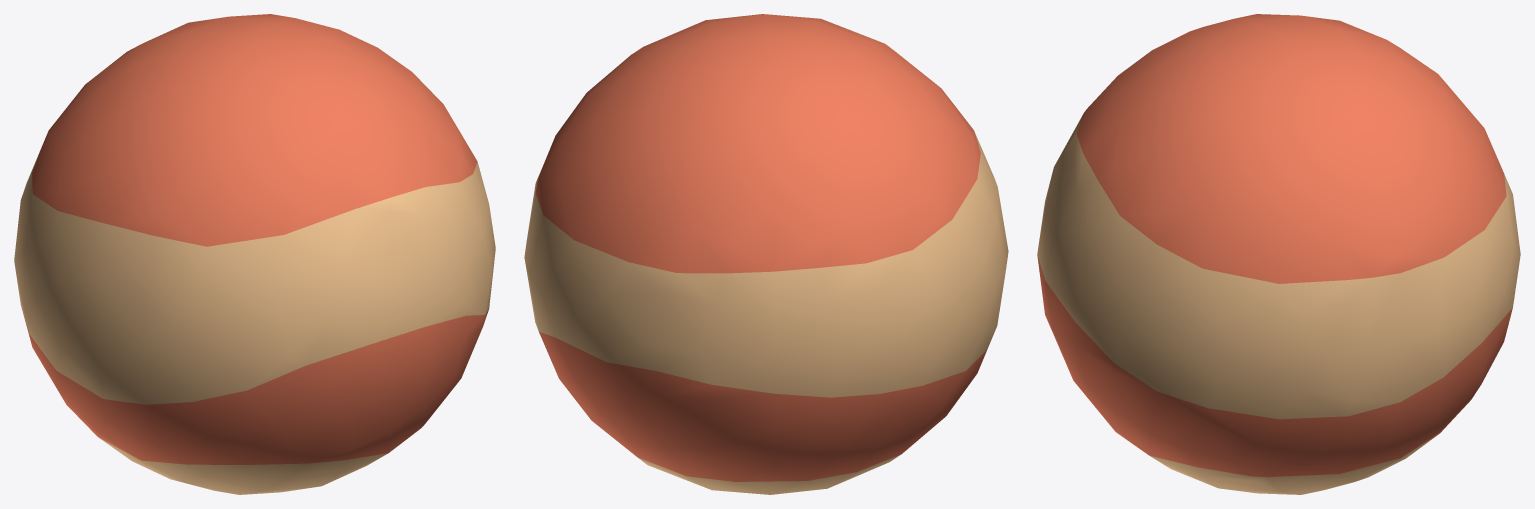
The model's file is Venus.obj.
The picture shows the model from 3 angles, left to right: view 1: azimuth 30°, elevation 25°; view 2: azimuth 150°, elevation 25°; view 3: azimuth 270°, elevation 25°; orthographic projection.
Parts seen in each view (by area): view 1: Venus; view 2: Venus; view 3: Venus.
Boxes of the visible parts, box(x1,y1,x2,y2) form: Venus: box(14, 14, 495, 494); Venus: box(524, 14, 1008, 494); Venus: box(1037, 14, 1520, 494).
Size of the model in its own units: 16.89 by 16.96 by 16.96.
